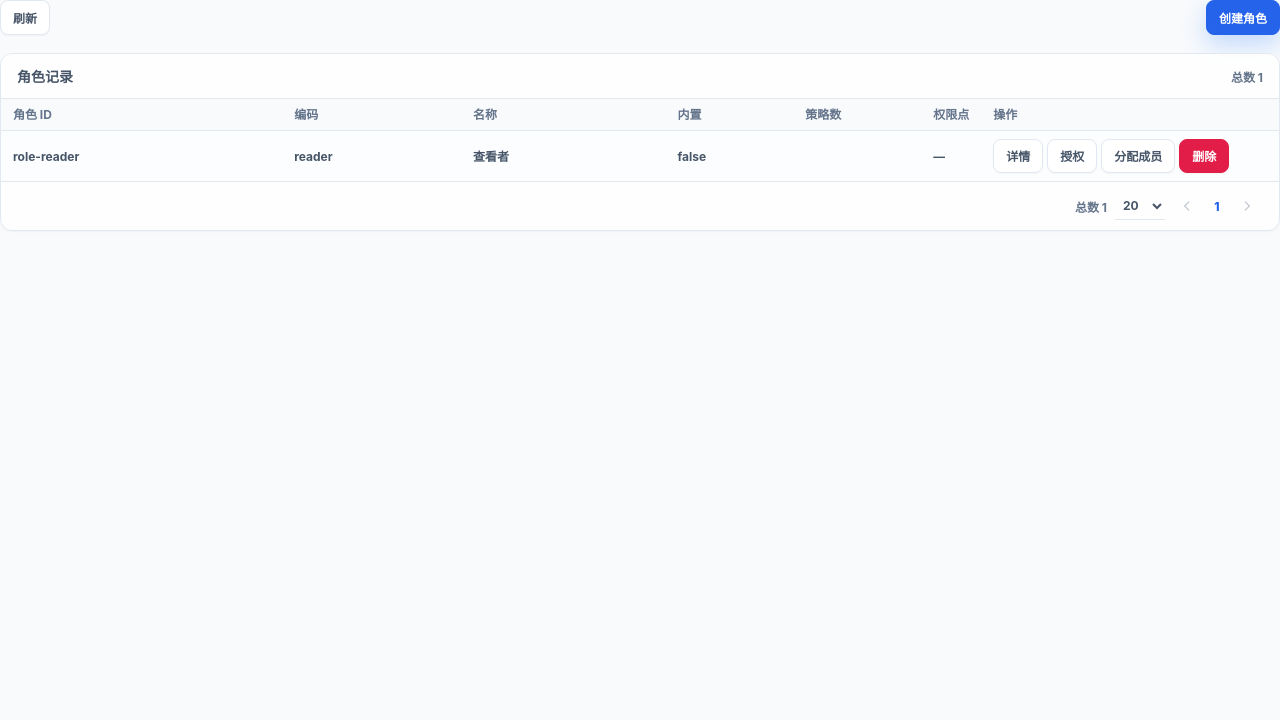
RolesView › 编辑角色范围只回显 active 业务授权，不读取历史兼容对象集
The width and height of the screenshot is (1280, 720).
Click the button "授权". click: x=1072, y=156
box: top-left (1047, 139), bottom-right (1097, 173)
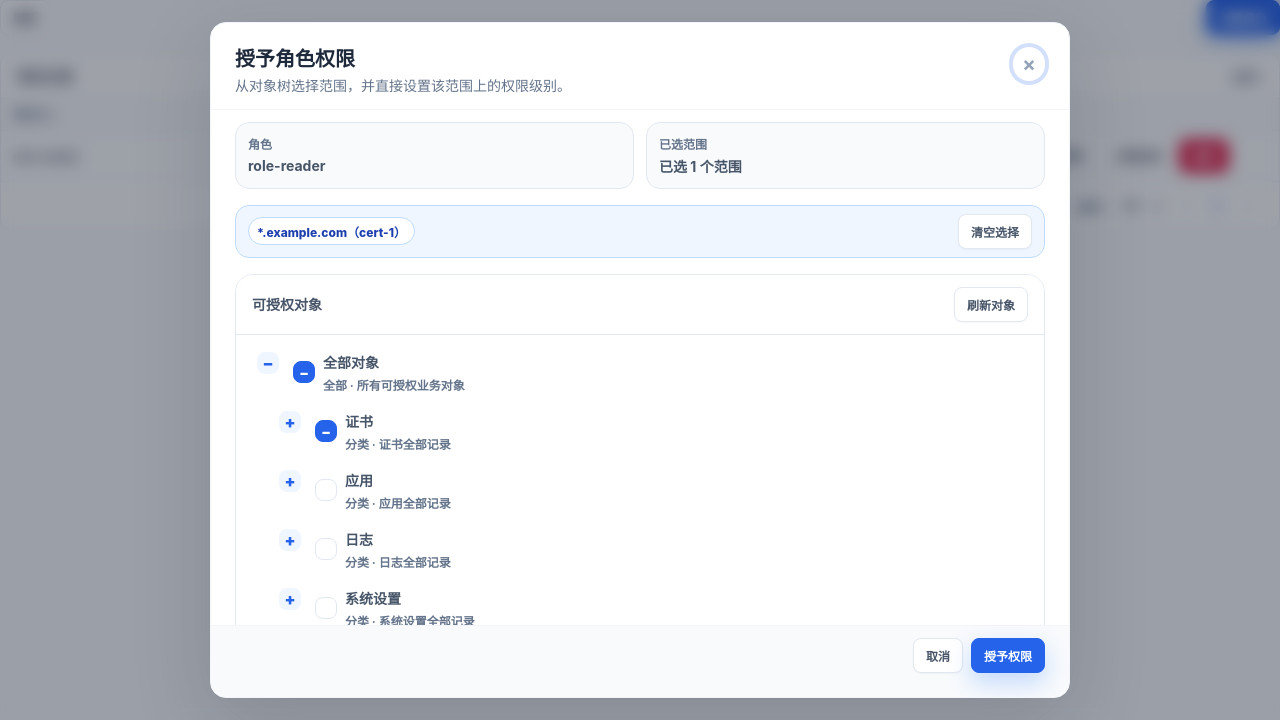
Expected: the text "已选 1 个范围" is shown, top-left (659, 158), bottom-right (742, 175)
Expected: the text "*.example.com" is shown, top-left (257, 225), bottom-right (406, 240)
